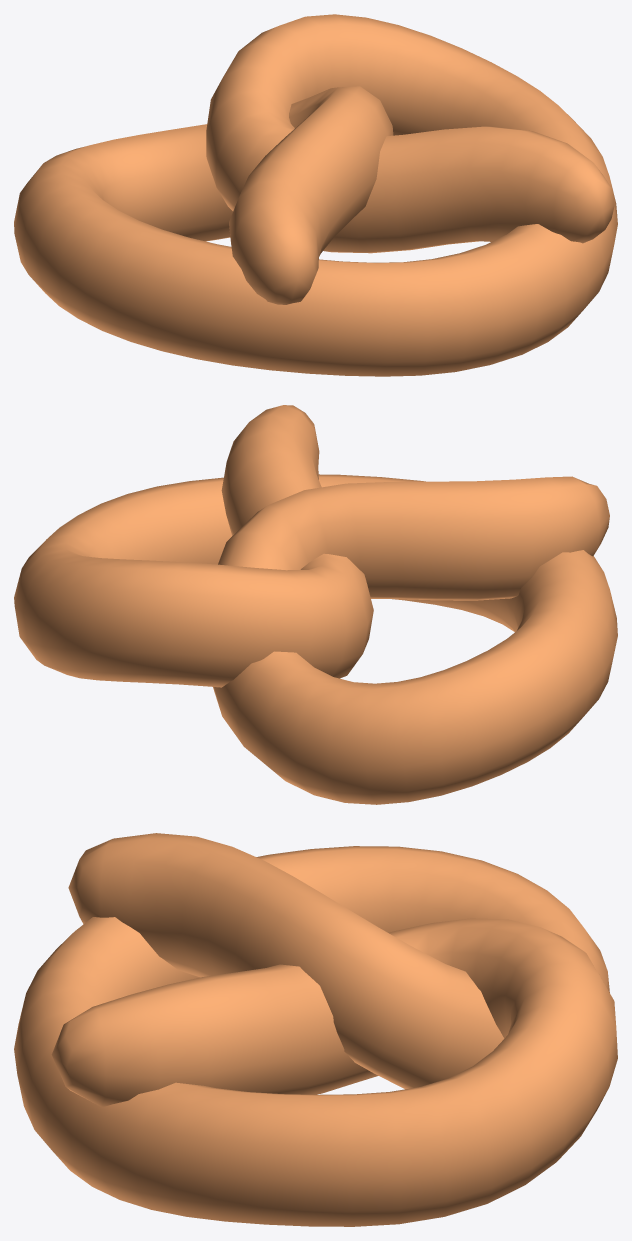
Rendered from Pretzel_01.fbx.
3 views of the same model, one above another, from view 1: azimuth 30°, elevation 25°; view 2: azimuth 150°, elevation 25°; view 3: azimuth 270°, elevation 25° (orthographic). The views are drawn at different scales.
Parts seen in each view (by area): view 1: Pretzel_01_LOD0; view 2: Pretzel_01_LOD0; view 3: Pretzel_01_LOD0.
Part boxes in pixels (x1,y1,x2,y2): Pretzel_01_LOD0: [14, 14, 617, 376]; Pretzel_01_LOD0: [14, 405, 617, 804]; Pretzel_01_LOD0: [14, 833, 617, 1226].
Size of what is drawn, in the model's own units: 542 by 198 by 472.
